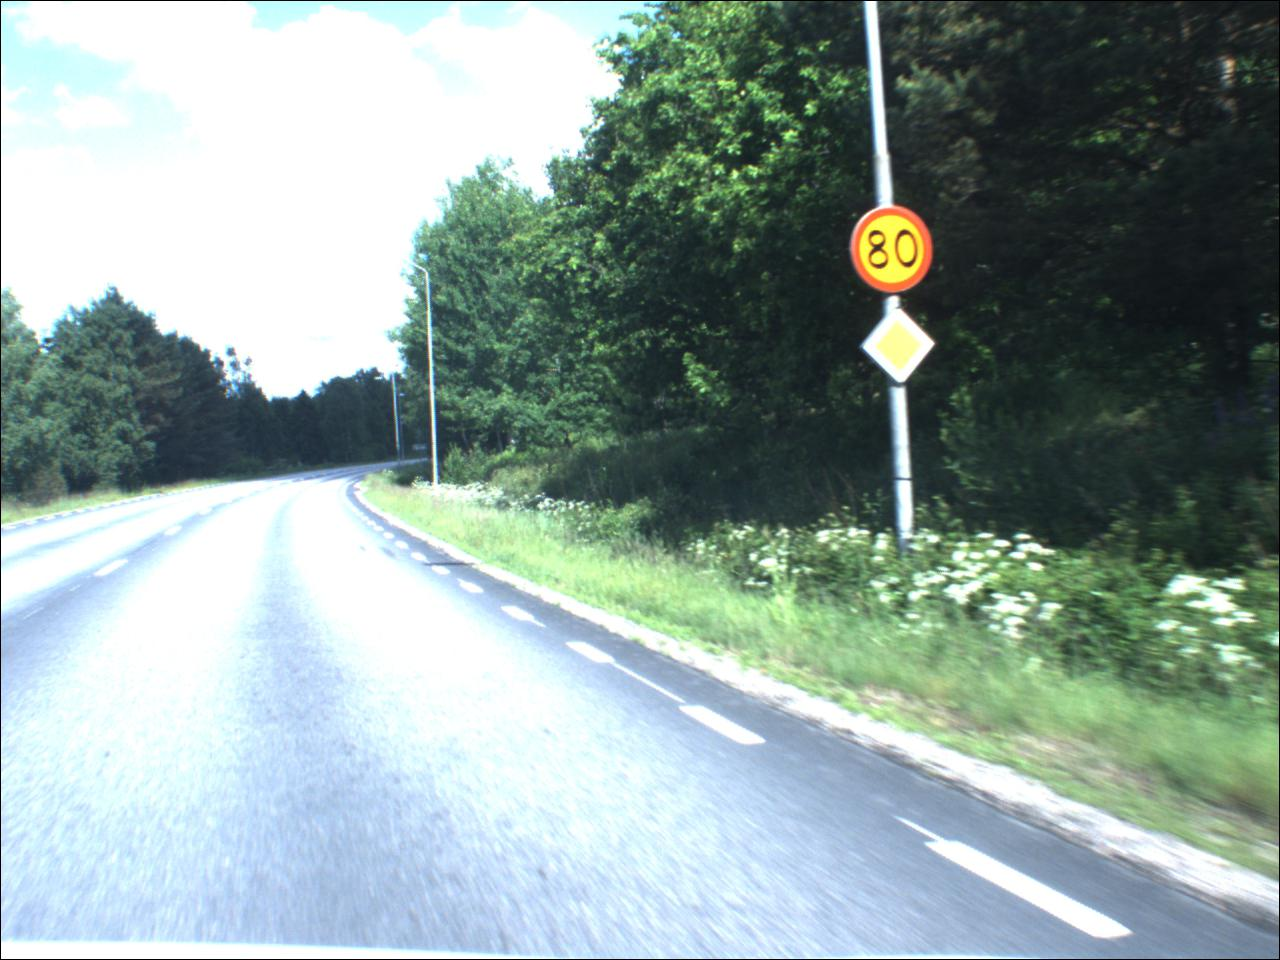80_SIGN: (853, 206, 938, 298)
PRIORITY_ROAD: (863, 309, 939, 387)
